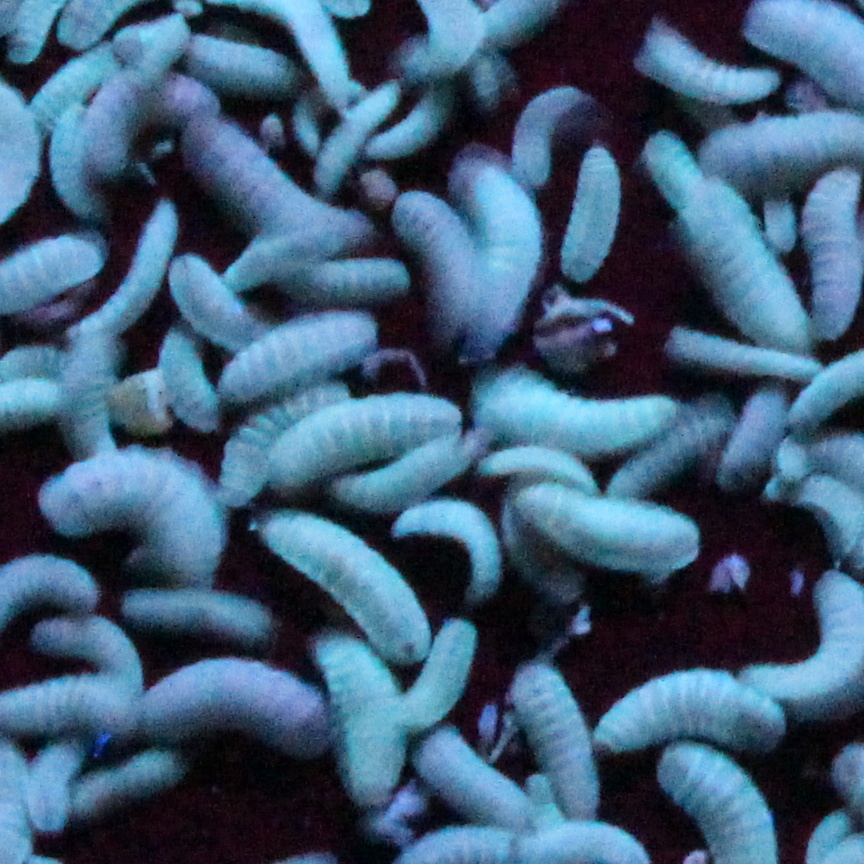larve: (26, 438, 230, 595), (673, 185, 829, 375), (176, 104, 366, 256), (254, 499, 431, 659), (269, 379, 472, 489), (589, 661, 797, 767), (507, 472, 715, 572), (459, 358, 671, 456), (146, 658, 340, 761), (502, 657, 608, 828), (213, 297, 386, 401), (67, 190, 181, 344), (389, 190, 495, 346), (418, 731, 544, 836), (628, 22, 777, 105), (395, 604, 485, 735), (118, 576, 281, 648), (400, 499, 520, 595), (564, 128, 623, 292), (507, 72, 584, 189)
